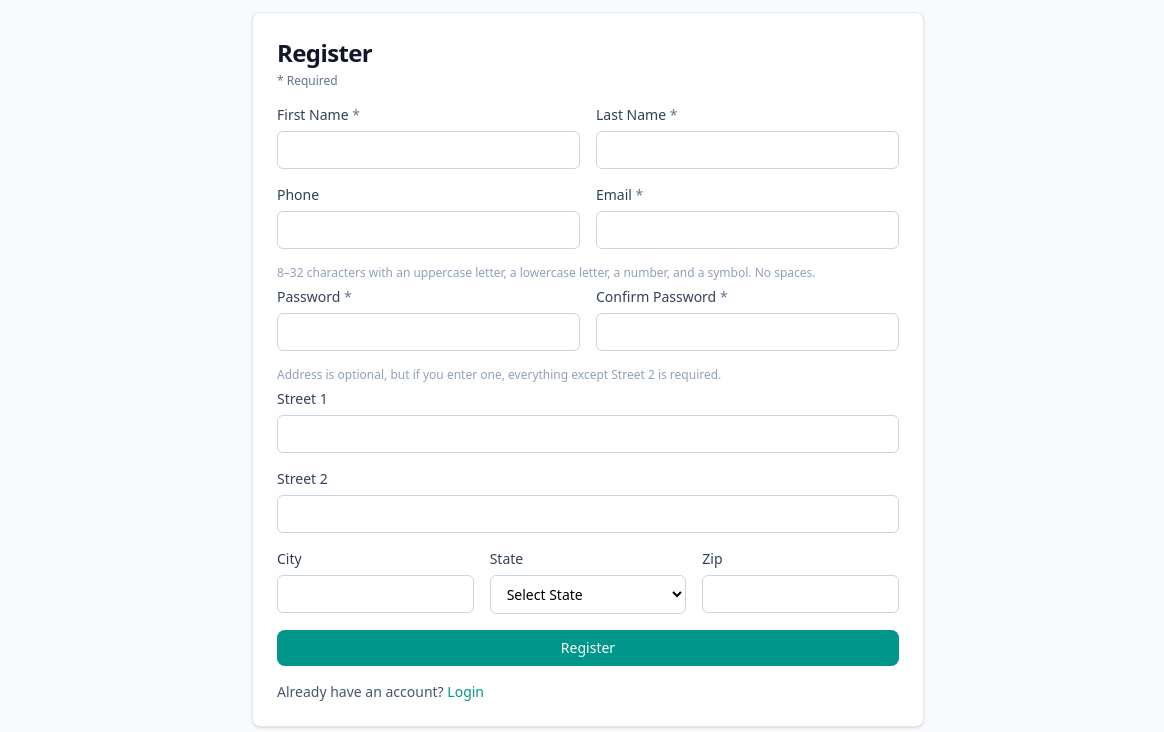
Test: Register › sends the user to sign in when registration succeeds but login fails
The image size is (1164, 732).
Type "Ada" into the field labelled "First Name *". click: coordinates (428, 150)
box: [277,131,580,169]
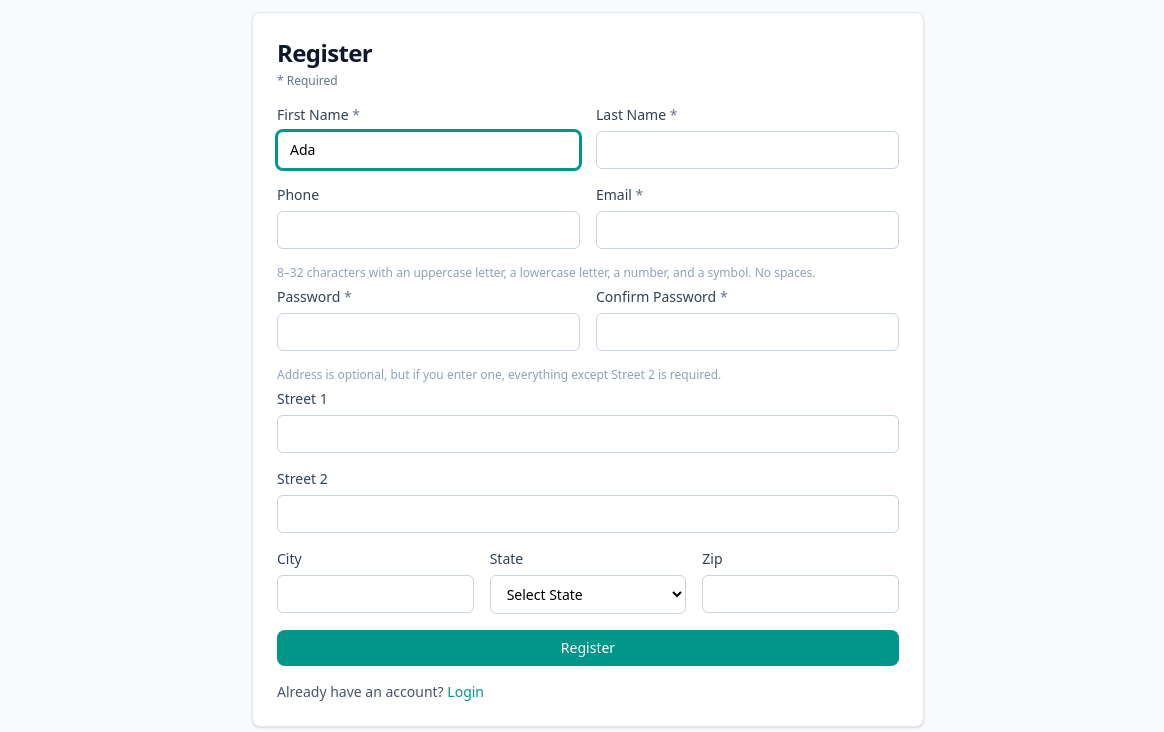
Type "Lovelace" into the field labelled "Last Name *". click: coordinates (748, 150)
box: [596,131,899,169]
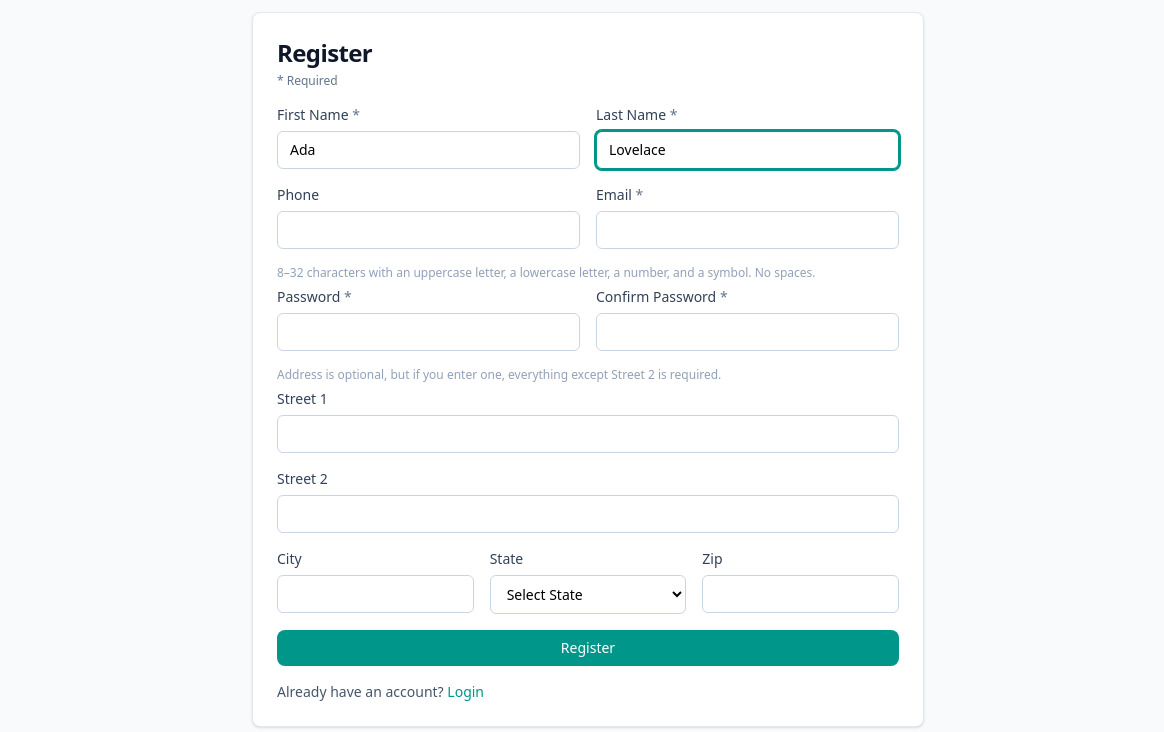
Type "ada@example.com" into the field labelled "Email *". click: coordinates (748, 230)
box: [596,211,899,249]
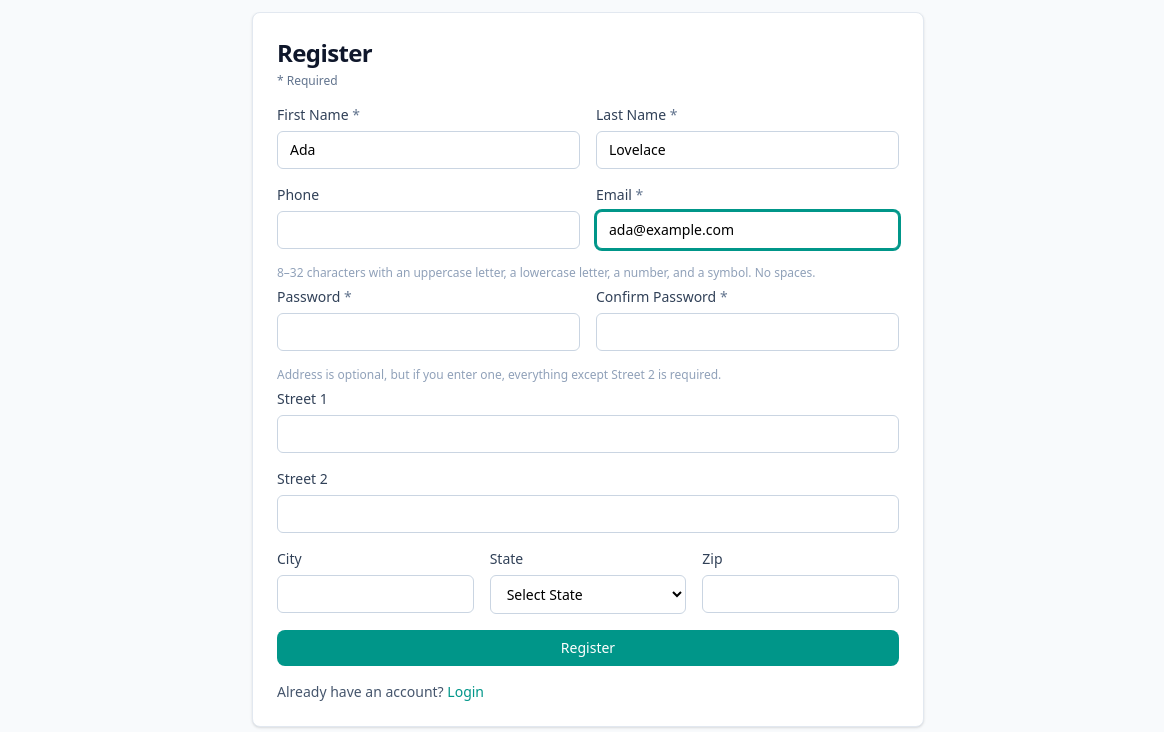
Type "Password1!" into the password field labelled "Password *". click: coordinates (428, 332)
box: [277,313,580,351]
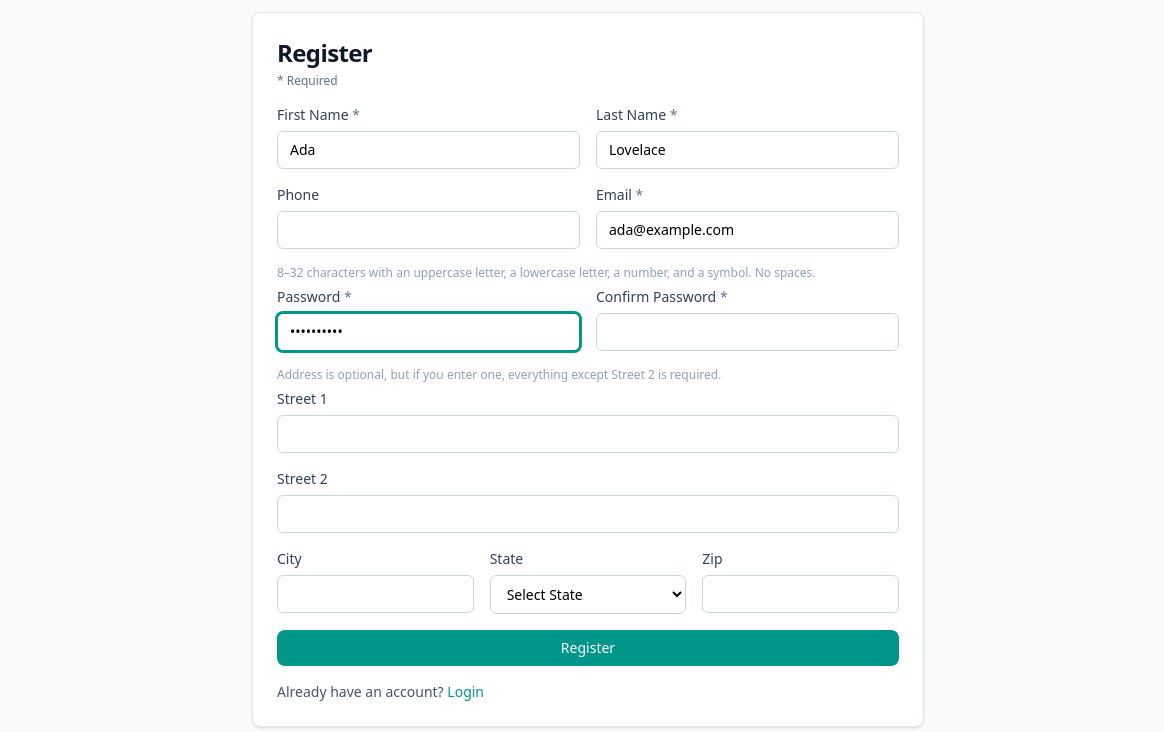
Type "Password1!" into the password field labelled "Confirm Password *". click: coordinates (748, 332)
box: [596,313,899,351]
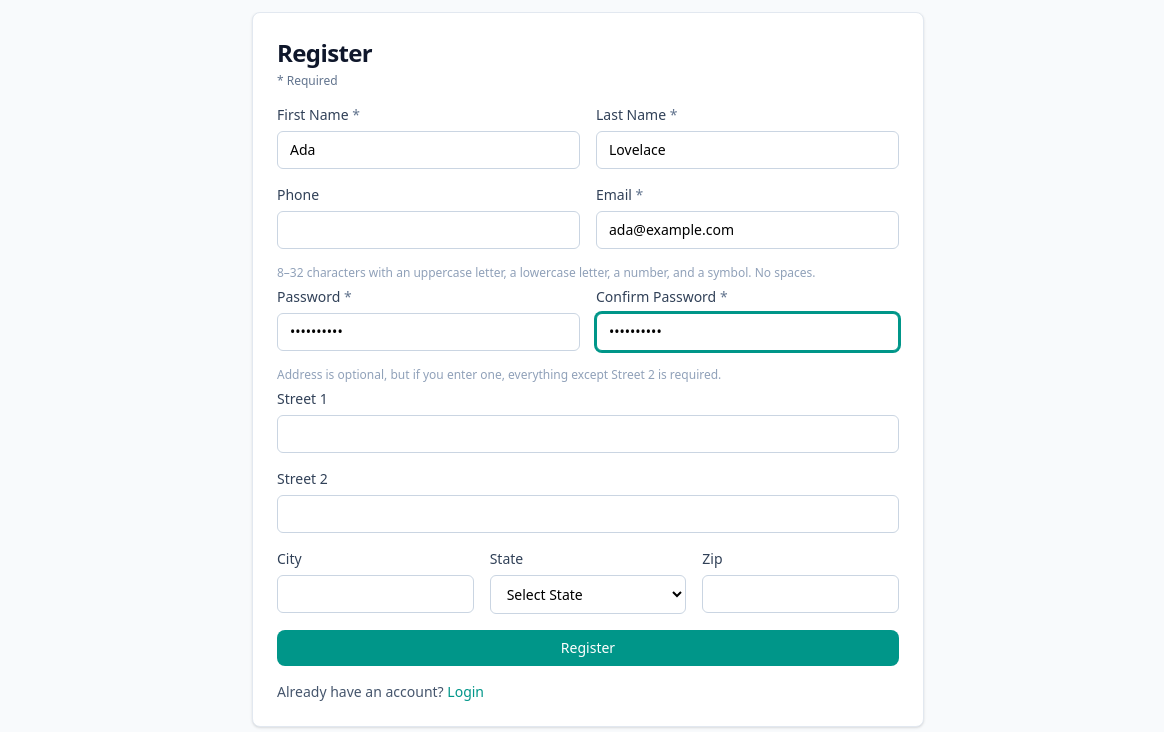
Click the button "Register". click: coordinates (588, 648)
box: [277,630,899,666]
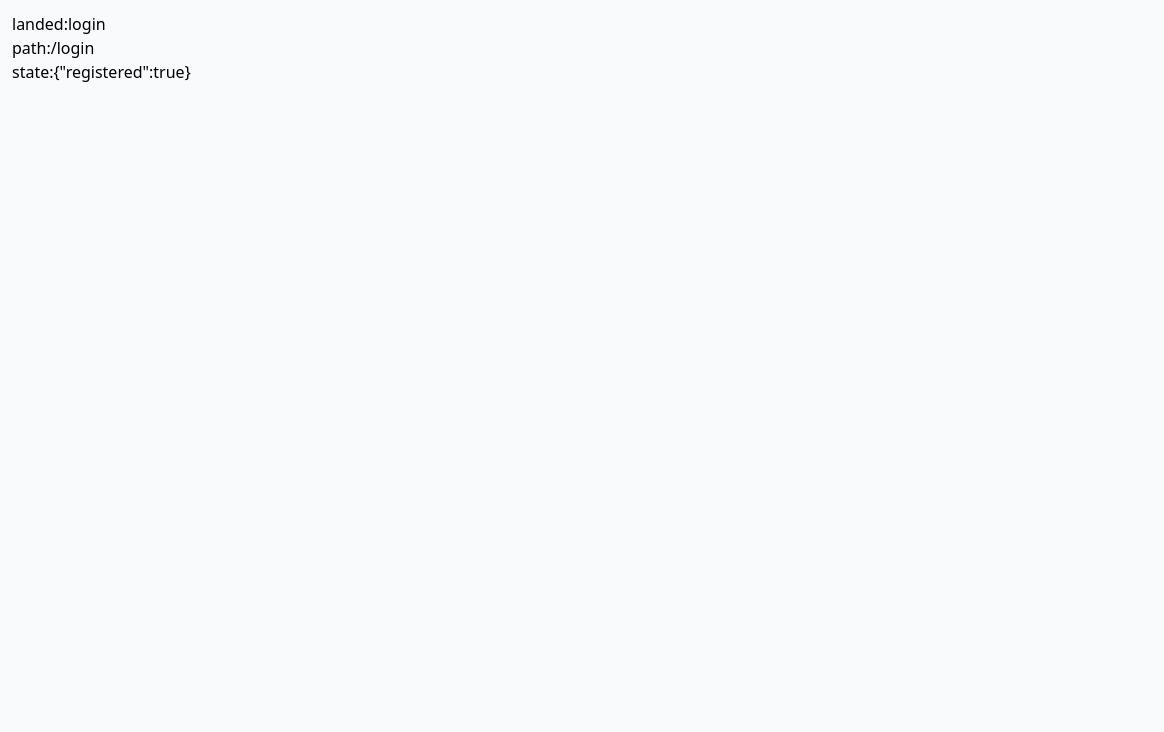
Expected: the text "landed:login" is shown, [12,13,106,35]
Expected: the text "state:{\"registered\":true}" shows "\"registered\":true", [12,61,191,83]
